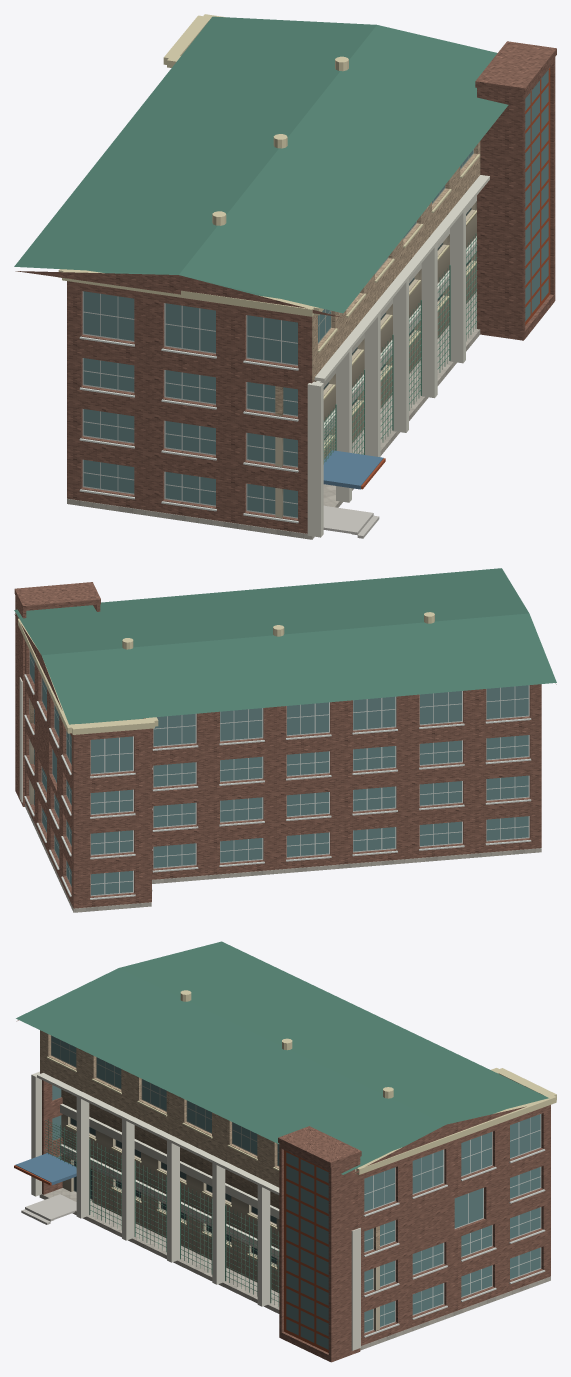
The picture shows the model from 3 angles, top to bottom: view 1: azimuth 30°, elevation 25°; view 2: azimuth 150°, elevation 25°; view 3: azimuth 270°, elevation 25°; orthographic projection. The views are drawn at different scales.
Visible parts, largest first — view 1: annex__roof, annex__brick, annex__glass, annex__white, annex__frame, annex__annex-front-brick, annex__annex-lower-wall, annex__annex-net, annex__cream, annex__stone, annex__red-frame, annex__canopy (+1 smaller); view 2: annex__roof, annex__brick, annex__glass, annex__frame, annex__stone, annex__cream, annex__white; view 3: annex__roof, annex__brick, annex__glass, annex__white, annex__annex-front-brick, annex__annex-lower-wall, annex__annex-net, annex__stone, annex__frame, annex__cream, annex__red-frame, annex__canopy (+2 smaller).
Part boxes in pixels (x1,y1,x2,y2): annex__roof: (14, 16, 508, 313); annex__brick: (15, 41, 556, 533); annex__glass: (83, 70, 548, 517); annex__white: (307, 175, 489, 537); annex__frame: (79, 291, 298, 523); annex__annex-front-brick: (275, 141, 480, 416); annex__annex-lower-wall: (275, 201, 476, 517); annex__annex-net: (323, 233, 477, 464); annex__cream: (58, 14, 480, 450); annex__stone: (67, 291, 480, 539); annex__red-frame: (361, 68, 550, 489); annex__canopy: (323, 450, 383, 489); annex__roof: (14, 568, 556, 724); annex__brick: (14, 582, 556, 908); annex__glass: (30, 651, 528, 895); annex__frame: (24, 650, 531, 899); annex__stone: (25, 803, 541, 912); annex__cream: (18, 612, 434, 734); annex__white: (19, 677, 22, 802); annex__roof: (16, 941, 548, 1174); annex__brick: (16, 1020, 550, 1362); annex__glass: (51, 1036, 540, 1349); annex__white: (31, 1071, 360, 1350); annex__annex-front-brick: (40, 1030, 379, 1250); annex__annex-lower-wall: (61, 1114, 379, 1330); annex__annex-net: (45, 1119, 279, 1306); annex__stone: (39, 1188, 550, 1350); annex__frame: (73, 1114, 545, 1337); annex__cream: (46, 990, 556, 1269); annex__red-frame: (14, 1150, 328, 1352); annex__canopy: (15, 1153, 76, 1185).
Size of the model in its own units: 40.26 by 16.25 by 39.08.
Materials: 16 (3 with a texture image).
